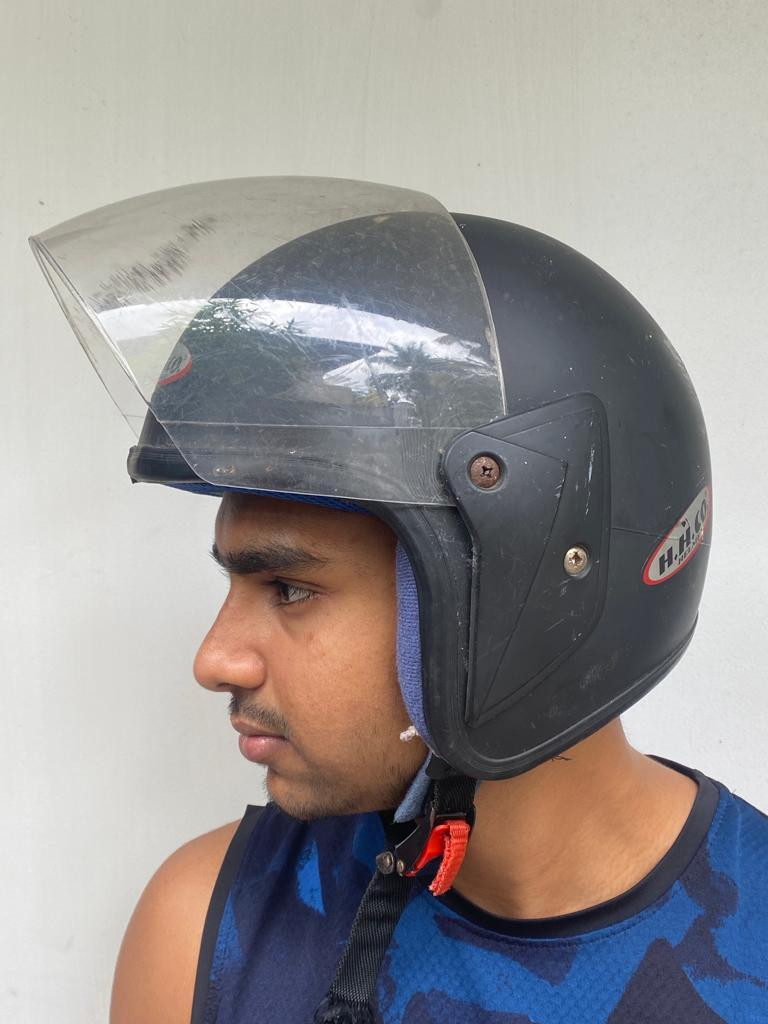helmet: (23, 167, 714, 785)
